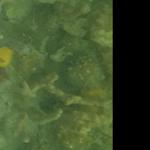dead: (7, 8, 113, 145)
